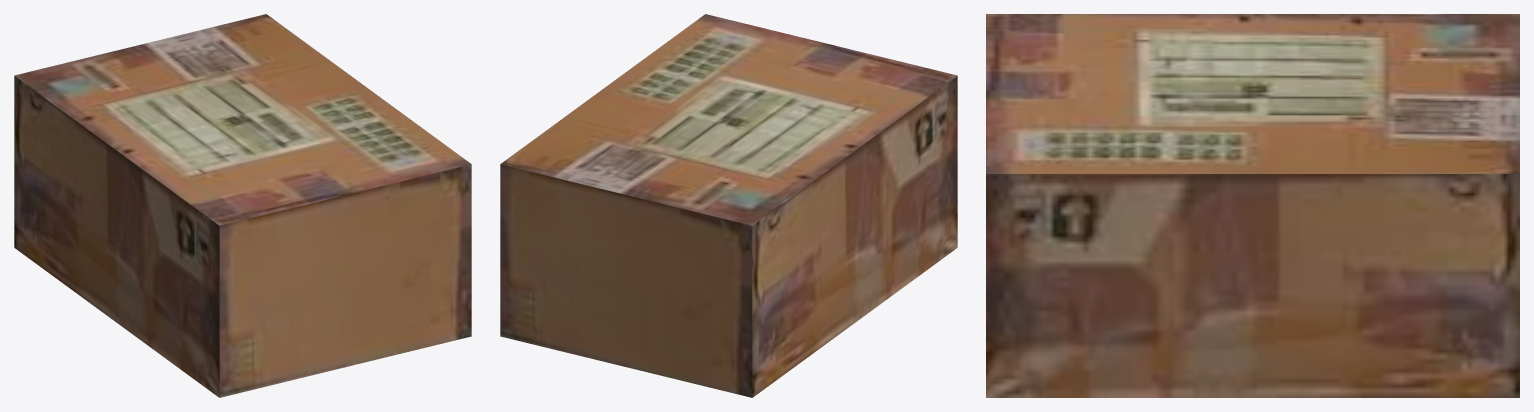
File: cardboard_box003a.glb
3 views of the same model, side by side, from view 1: azimuth 30°, elevation 25°; view 2: azimuth 150°, elevation 25°; view 3: azimuth 270°, elevation 25° (orthographic). The views are drawn at different scales.
Parts seen in each view (by area): view 1: 0_Cardboard_boxes001a; view 2: 0_Cardboard_boxes001a; view 3: 0_Cardboard_boxes001a.
Part boxes in pixels (x1,y1,x2,y2): 0_Cardboard_boxes001a: [14, 14, 471, 397]; 0_Cardboard_boxes001a: [500, 14, 957, 397]; 0_Cardboard_boxes001a: [986, 14, 1519, 397].
Size of the model in its own units: 0.542 by 0.3534 by 0.764.
1 material, 1 textured.
